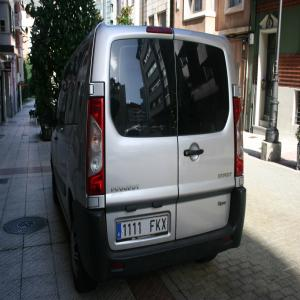Vehicle-registration-plate: (117, 216, 168, 241)
